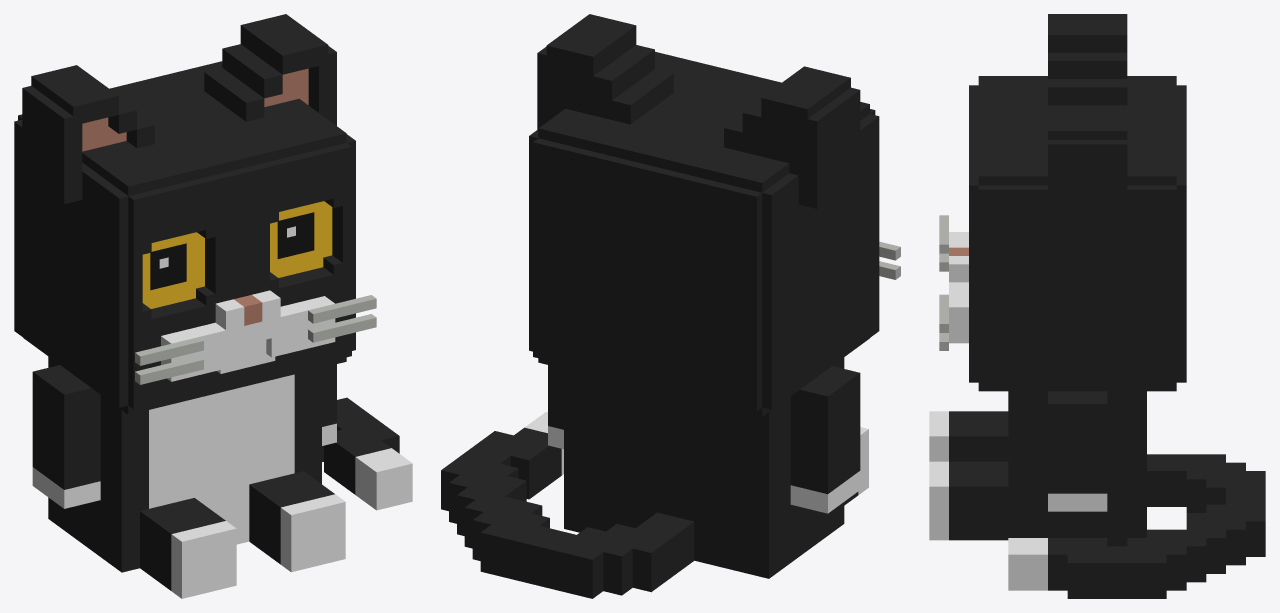
Rendered from catOriginal.gltf.
3 renders of one model, left to right at view 1: azimuth 30°, elevation 25°; view 2: azimuth 150°, elevation 25°; view 3: azimuth 270°, elevation 25°, orthographic. The views are drawn at different scales.
Parts seen in each view (by area): view 1: Object_2; view 2: Object_2; view 3: Object_2.
Part boxes in pixels (<box>): Object_2: <box>14,14,412,598</box>; Object_2: <box>441,14,900,598</box>; Object_2: <box>929,14,1265,598</box>.
Size of the model in its own units: 3.8 by 4.8 by 3.4.
1 material, 1 textured.
